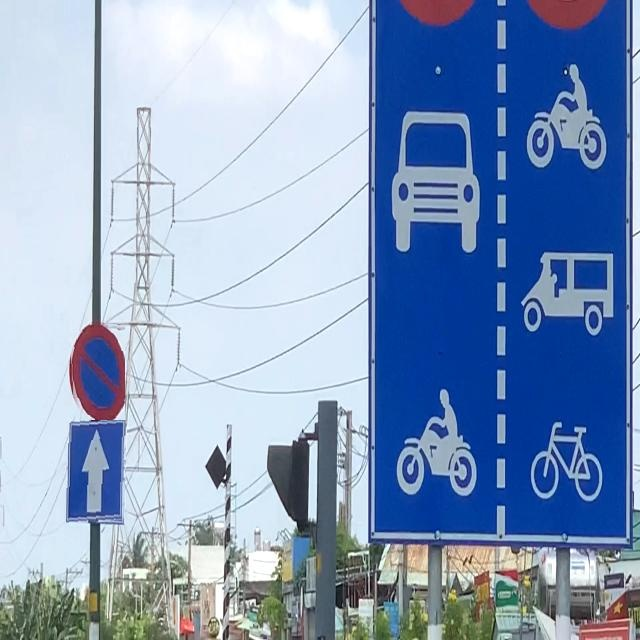bien_cam: (66, 421, 127, 526), (69, 321, 125, 422)
